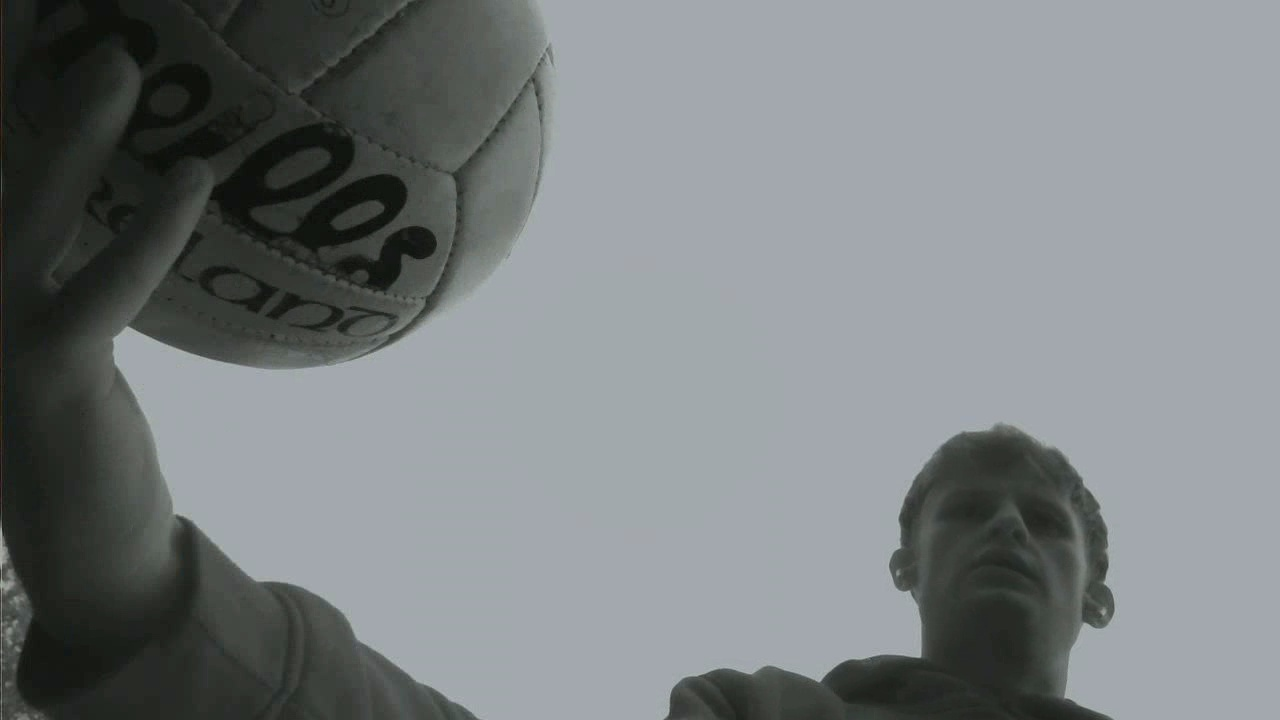Football-Spotter: (5, 0, 552, 367)
